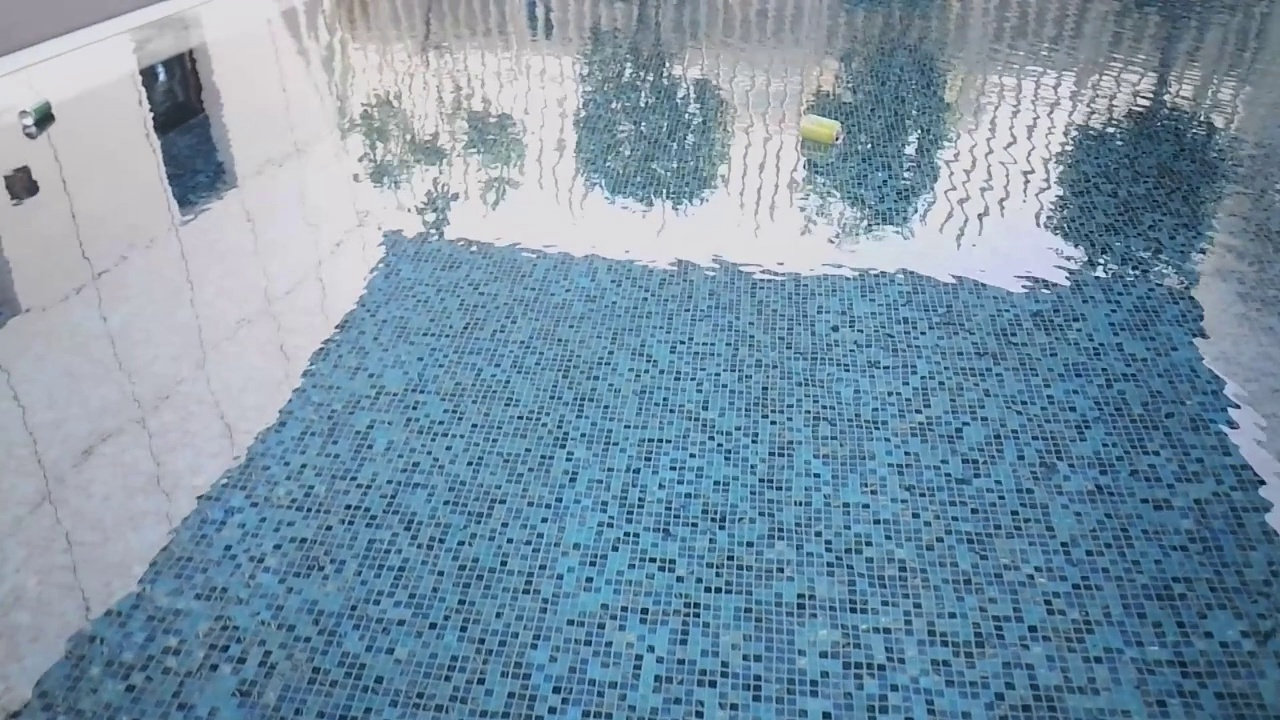debris: (795, 105, 847, 149)
